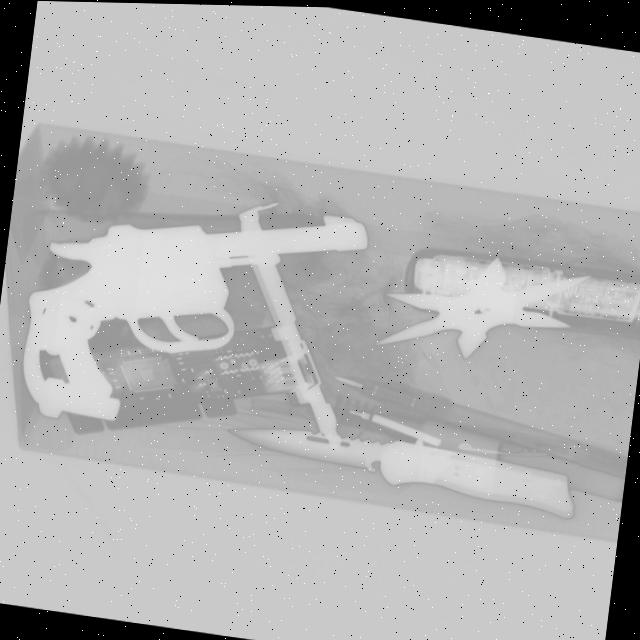knife: (221, 406, 584, 519)
pistol: (14, 169, 372, 457)
